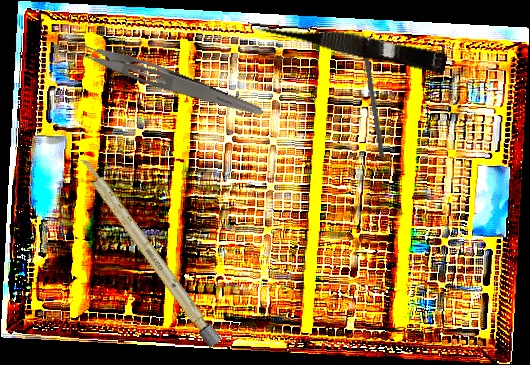Dressing Forceps: (49, 29, 268, 121)
Hook Surgical: (360, 31, 386, 157)
Micro Scissor: (253, 12, 449, 75)
Scalpel Handle: (75, 154, 223, 349)
